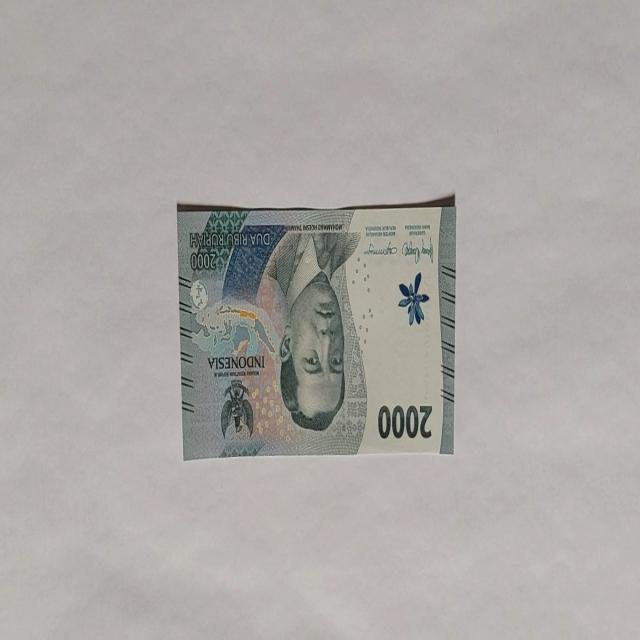dua ribu rupiah: (176, 200, 456, 460), (264, 228, 360, 434)
